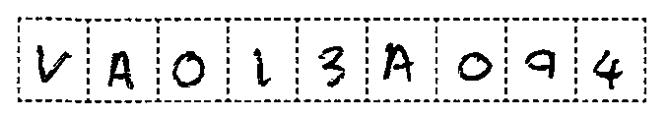0: (450, 47, 498, 88), (169, 45, 210, 92)
1: (243, 44, 280, 93)
3: (312, 43, 353, 92)
4: (585, 44, 630, 94)
9: (518, 39, 564, 87)
A: (375, 37, 422, 90), (102, 46, 142, 92)
V: (32, 41, 74, 91)
